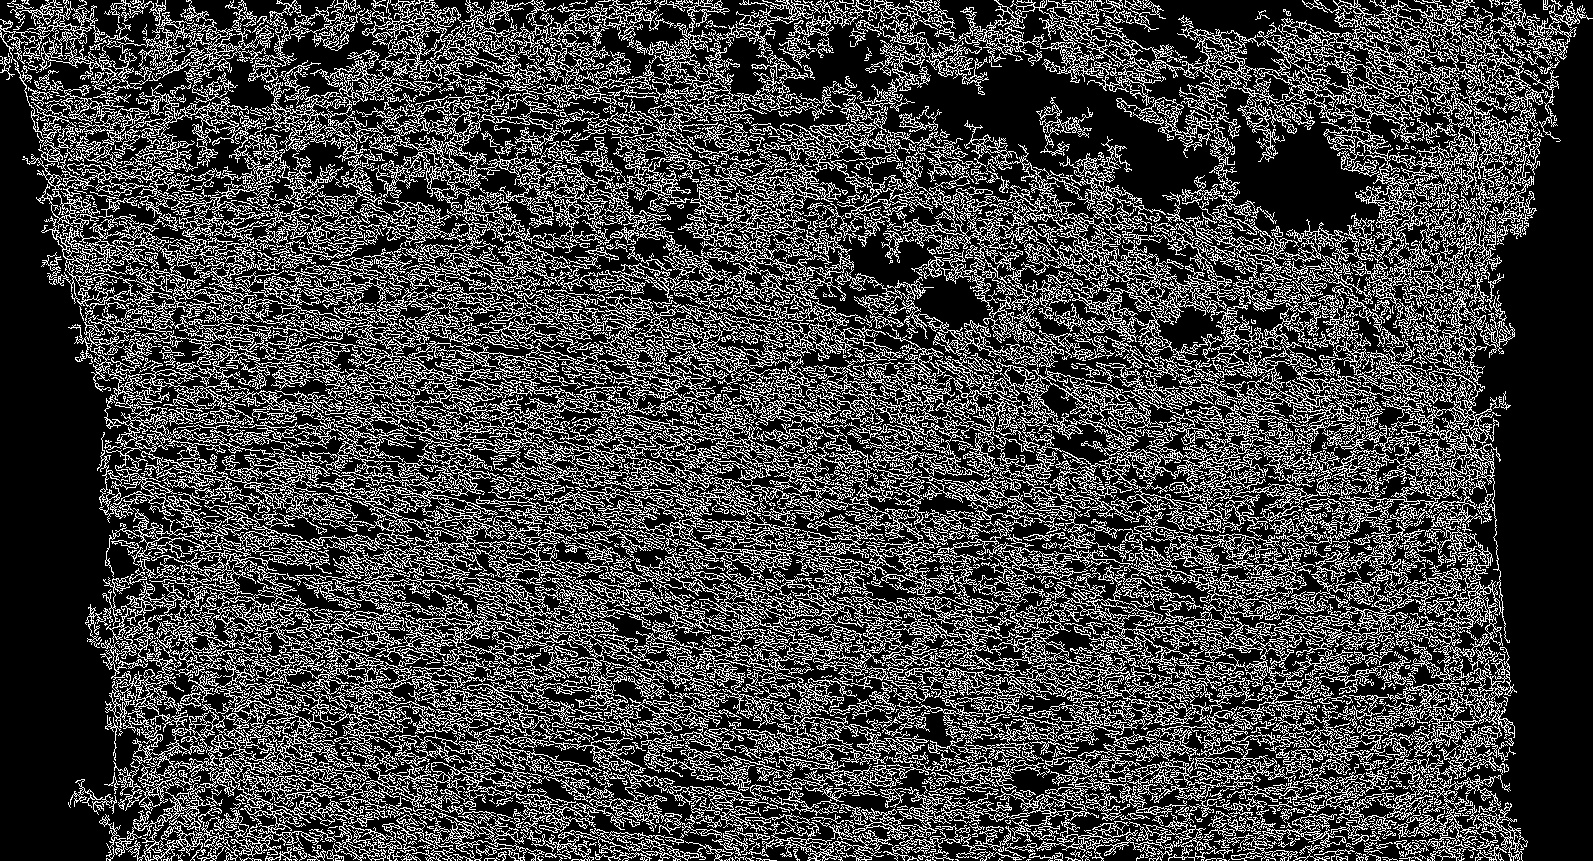singlecore: (1265, 652, 1270, 656), (761, 695, 764, 699), (353, 474, 356, 477), (758, 298, 761, 301), (588, 245, 591, 248), (586, 304, 589, 307), (1204, 478, 1207, 481), (1167, 767, 1170, 770), (1055, 707, 1058, 710), (1185, 785, 1188, 788), (1223, 549, 1226, 552), (1180, 468, 1183, 471), (835, 330, 838, 333), (938, 823, 941, 826), (1394, 307, 1397, 311), (669, 699, 672, 702), (715, 507, 718, 511), (299, 217, 302, 219), (564, 533, 567, 535), (606, 94, 609, 96), (1390, 273, 1392, 276), (1210, 816, 1213, 819)
